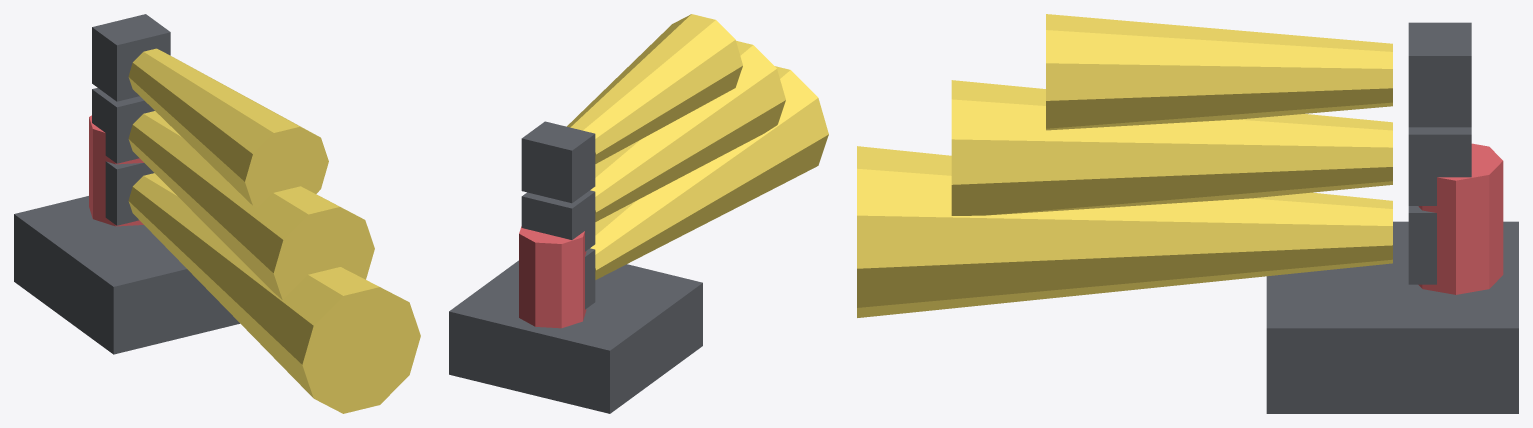
File: lawn-mowing-simulator-kit-air-horn-399199e2__27361.glb
3 renders of one model, left to right at view 1: azimuth 30°, elevation 25°; view 2: azimuth 150°, elevation 25°; view 3: azimuth 270°, elevation 25°, orthographic. The views are drawn at different scales.
Visible parts, largest first — view 1: air-horn; view 2: air-horn; view 3: air-horn.
Boxes of the visible parts, x1,y1,x2,y2 form: air-horn: (14, 14, 420, 413); air-horn: (449, 14, 828, 413); air-horn: (857, 14, 1518, 413).
Bounding box in the file's own units: 0.16 × 0.2371 × 0.42.
